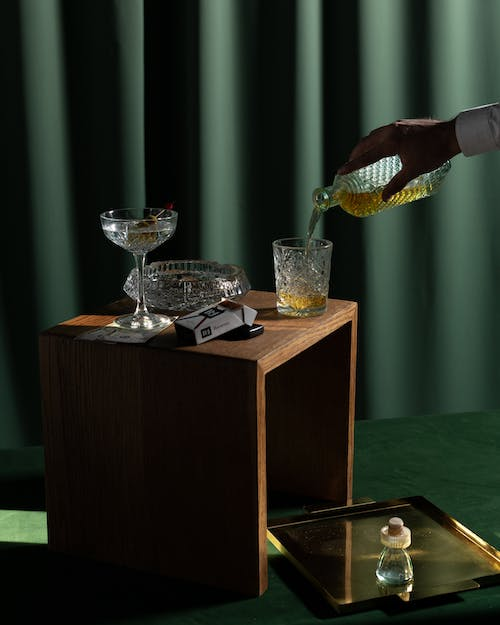alcohol: (98, 204, 182, 331), (309, 150, 452, 221), (269, 234, 335, 319)
cigarette: (175, 294, 262, 347)
